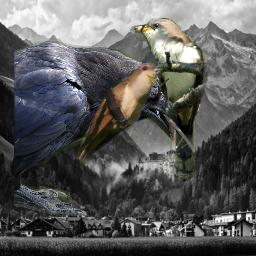Crow: (14, 41, 191, 216)
Cuckoo: (130, 18, 209, 181), (74, 63, 163, 168)
